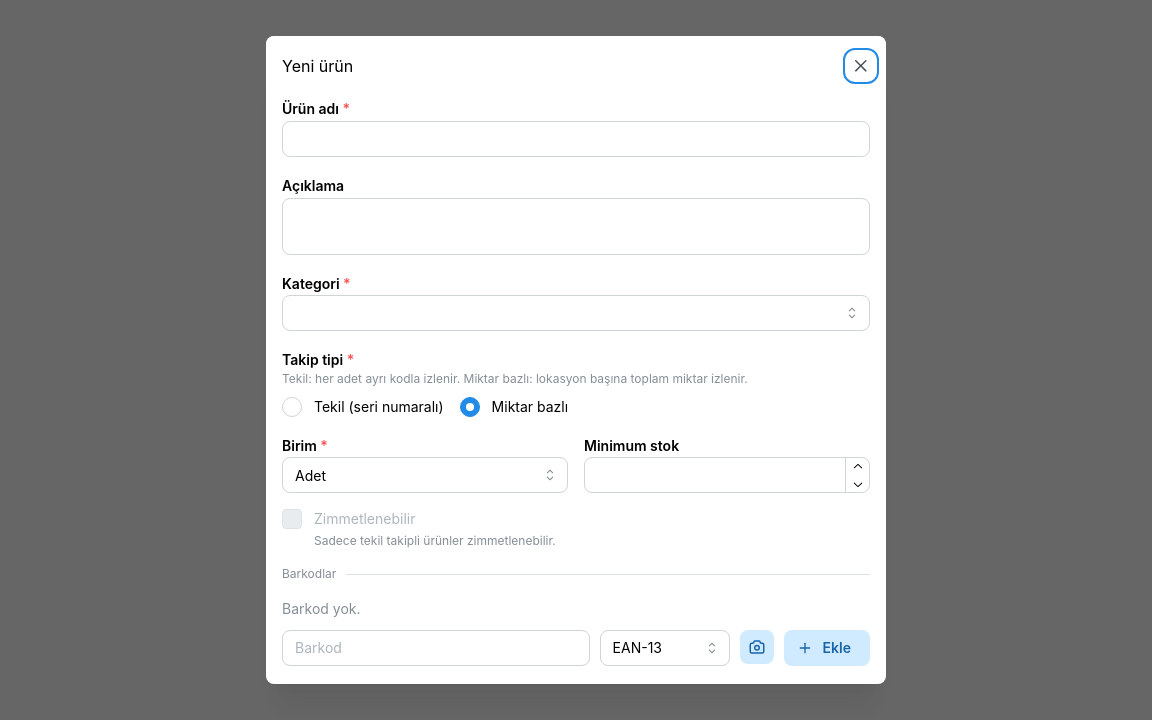
Test: ProductFormModal › locks the unit to piece for serialized products
Click the radio button labelled "Tekil (seri numaralı)": (292, 407) [282,397,302,417]
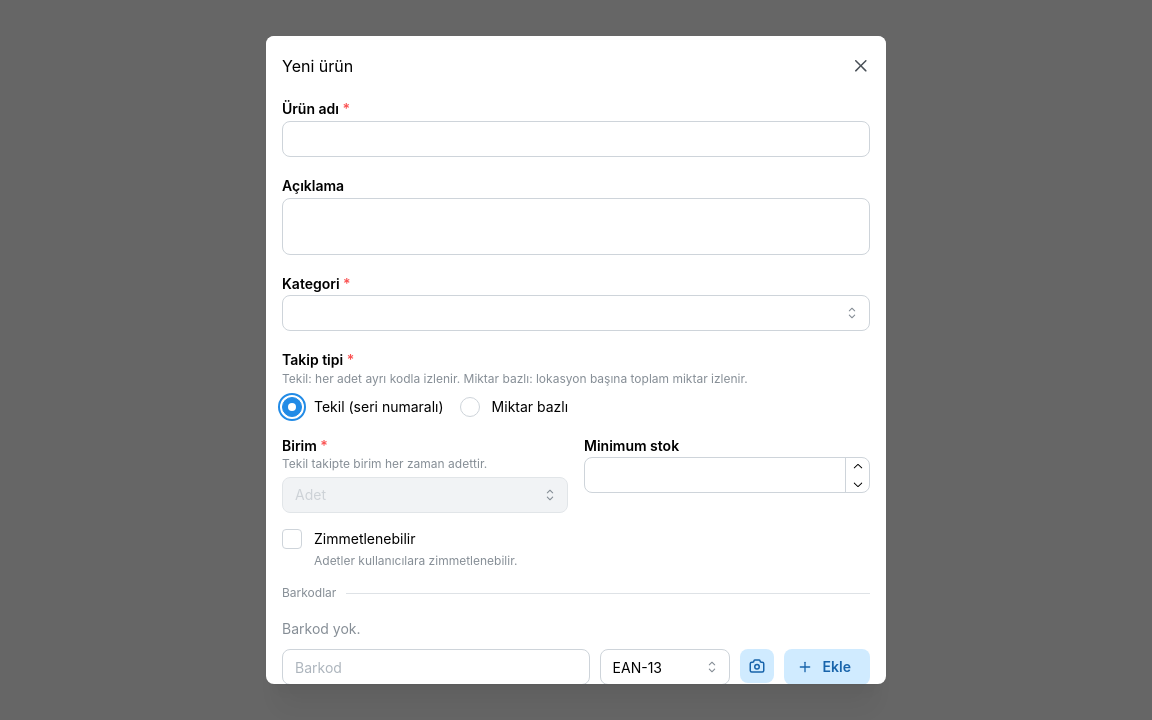
Expected: the dropdown labelled "Birim *" holds "Adet", [282,477,568,513]
Expected: the dropdown labelled "Birim *" is disabled, [282,477,568,513]
